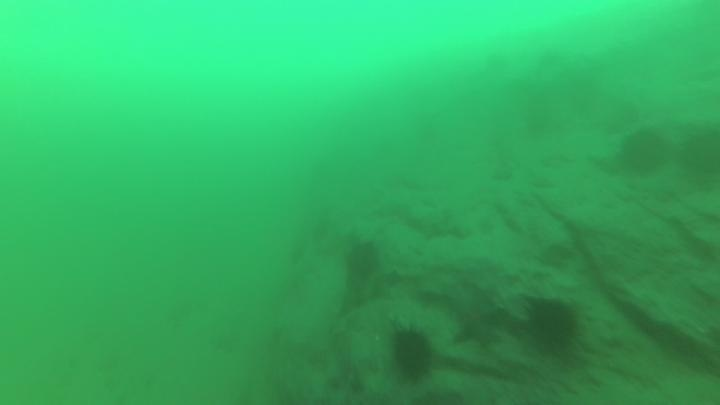echinus: (521, 294, 584, 356), (387, 323, 438, 385), (676, 123, 720, 187), (617, 126, 671, 177), (342, 238, 383, 282)
starfish: (445, 287, 506, 351)
